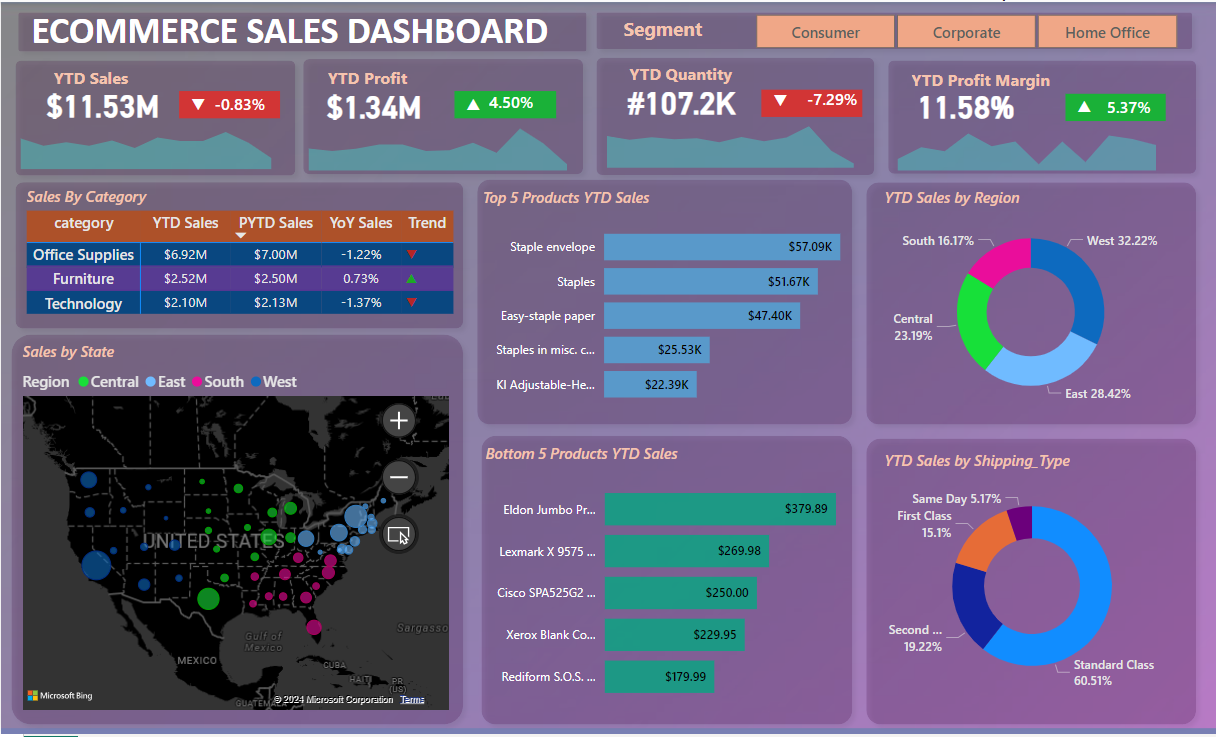

Layout of this report page (visuals, bound fields, positions):
{"tool":"powerbi","page":{"name":"Page 1","canvas":[1203,725],"ordinal":0},"visuals":[{"type":"shape","box":[7.8,1.7,580.8,56.6],"z":0},{"type":"textbox","box":[7.8,0.4,547.1,57.9],"z":1000},{"type":"shape","box":[5.8,48.9,295.1,132.1],"z":2000},{"type":"card","fields":{"Values":["Calendar.YTD Sales"]},"box":[24.7,71.8,152.3,57.9],"z":3000},{"type":"shape","box":[177,88,99.7,27],"z":4000},{"type":"areaChart","fields":{"Category":["Calendar.Month"],"Y":["Sum(ecommerce_data.sales_per_order)"]},"box":[5.8,108.2,276.2,62],"z":5000},{"type":"card","fields":{"Values":["ecommerce_data.YoY Sales"]},"box":[206.6,88,60.6,27],"z":6000},{"type":"card","fields":{"Values":["ecommerce_data.Sales Icon"]},"box":[177,88,37.7,29.6],"z":7000},{"type":"textbox","box":[24.7,58.3,129.4,39.1],"z":8000},{"type":"shape","box":[290.5,47.9,295.1,132.1],"z":9000},{"type":"card","fields":{"Values":["ecommerce_data.YTD Profit"]},"box":[293.8,72.8,152.3,57.9],"z":10000},{"type":"areaChart","fields":{"Category":["Calendar.Month"],"Y":["Sum(ecommerce_data.profit_per_order)"]},"box":[290.5,109.9,284.3,62],"z":11000},{"type":"shape","box":[580.7,46.1,293.1,134.3],"z":12000},{"type":"textbox","box":[319.4,57.9,129.4,39.1],"z":13000},{"type":"shape","box":[752.5,87.1,99.7,27],"z":14000},{"type":"card","fields":{"Values":["ecommerce_data.YoY Quantity"]},"box":[788.4,84.2,69.8,27.4],"z":15000},{"type":"card","fields":{"Values":["ecommerce_data.YTD Quancatinate Qty"]},"box":[603.4,70.8,140.1,55.2],"z":16000},{"type":"areaChart","fields":{"Category":["Calendar.Month"],"Y":["Sum(ecommerce_data.order_quantity)"]},"box":[585.9,107.2,272.2,62],"z":17000},{"type":"card","fields":{"Values":["ecommerce_data.Quantity Icon"]},"box":[753.6,84.2,37.7,29.6],"z":18000},{"type":"textbox","box":[603.4,54.6,138.8,39.1],"z":19000},{"type":"shape","box":[448.6,87.7,101.1,27],"z":20000},{"type":"card","fields":{"Values":["ecommerce_data.YoY Profit"]},"box":[475.6,86.3,60.6,26],"z":21000},{"type":"card","fields":{"Values":["ecommerce_data.Profit Icon"]},"box":[448.6,87.7,37,29.6],"z":22000},{"type":"shape","box":[869.8,48.8,322.9,130.3],"z":23000},{"type":"card","fields":{"Values":["ecommerce_data.YTD Profit Margin"]},"box":[878.7,73.7,152.3,57.9],"z":24000},{"type":"areaChart","fields":{"Category":["Calendar.Month"],"Y":["ecommerce_data.Profit Margin"]},"box":[874.1,109.5,284.3,62],"z":25000},{"type":"textbox","box":[896.2,60.6,173.8,35],"z":26000},{"type":"shape","box":[1053.9,90.3,99,27],"z":27000},{"type":"card","fields":{"Values":["ecommerce_data.YoY Profit Margin"]},"box":[1086.2,90.3,60,26],"z":28000},{"type":"card","fields":{"Values":["ecommerce_data.Profit Margin Icon"]},"box":[1053.9,88.9,37,29.6],"z":29000},{"type":"shape","box":[5.4,169.6,461.3,162.8],"z":30000},{"type":"pivotTable","title":"Sales By Category","fields":{"Rows":["ecommerce_data.category_name"],"Values":["Calendar.YTD Sales","ecommerce_data.PYTD Sales","ecommerce_data.YoY Sales","ecommerce_data.Sales Icon"]},"box":[20.5,181.9,446,138.2],"z":31000},{"type":"shape","box":[1.4,320.2,465.4,404.4],"z":32000},{"type":"map","title":"Sales by State","fields":{"Y":["us_state_long_lat_codes.latitude"],"X":["us_state_long_lat_codes.longitude"],"Size":["Calendar.YTD Sales"],"Series":["ecommerce_data.customer_region"]},"box":[16.3,335.2,432.8,371.8],"z":33000},{"type":"shape","box":[462.7,166.9,389.4,260.5],"z":34000},{"type":"shape","box":[466.8,420.6,385.4,303.9],"z":35000},{"type":"barChart","title":"Top 5 Products YTD Sales","fields":{"Category":["ecommerce_data.product_name"],"Y":["Calendar.YTD Sales"]},"box":[472.3,182.9,375.9,228],"z":36000},{"type":"barChart","title":"Bottom 5 Products YTD Sales","fields":{"Category":["ecommerce_data.product_name"],"Y":["Calendar.YTD Sales"]},"box":[474.9,436.9,369.1,270],"z":37000},{"type":"shape","box":[848.1,169.6,344.6,257.8],"z":38000},{"type":"shape","box":[848.1,423.3,344.6,301.2],"z":39000},{"type":"donutChart","title":"YTD Sales by Region","fields":{"Category":["ecommerce_data.customer_region"],"Y":["Calendar.YTD Sales"]},"box":[869.8,183.2,299.9,228],"z":40000},{"type":"donutChart","title":"YTD Sales by Shipping_Type","fields":{"Category":["ecommerce_data.shipping_type"],"Y":["Calendar.YTD Sales"]},"box":[869.8,443.7,302.6,249.7],"z":41000},{"type":"shape","box":[580.7,1.4,607.9,54.3],"z":41500},{"type":"slicer","fields":{"Values":["ecommerce_data.customer_segment"]},"box":[721.9,5.4,466.8,47.5],"z":42000},{"type":"textbox","box":[588.9,8.1,133,39.3],"z":42001}]}

Visuals, with their boxes in screenshot pixels (x1, y1, x2, y2), scaled from the page's 1203x725 canvas onto the 1216x737 screenshot:
shape: region(8, 2, 595, 59)
textbox: region(8, 0, 561, 59)
shape: region(6, 50, 304, 184)
card - Calendar.YTD Sales: region(25, 73, 179, 132)
shape: region(179, 89, 280, 117)
areaChart - Calendar.Month x Sum(ecommerce_data.sales_per_order): region(6, 110, 285, 173)
card - ecommerce_data.YoY Sales: region(209, 89, 270, 117)
card - ecommerce_data.Sales Icon: region(179, 89, 217, 120)
textbox: region(25, 59, 156, 99)
shape: region(294, 49, 592, 183)
card - ecommerce_data.YTD Profit: region(297, 74, 451, 133)
areaChart - Calendar.Month x Sum(ecommerce_data.profit_per_order): region(294, 112, 581, 175)
shape: region(587, 47, 883, 183)
textbox: region(323, 59, 454, 99)
shape: region(761, 89, 861, 116)
card - ecommerce_data.YoY Quantity: region(797, 86, 867, 113)
card - ecommerce_data.YTD Quancatinate Qty: region(610, 72, 752, 128)
areaChart - Calendar.Month x Sum(ecommerce_data.order_quantity): region(592, 109, 867, 172)
card - ecommerce_data.Quantity Icon: region(762, 86, 800, 116)
textbox: region(610, 56, 750, 95)
shape: region(453, 89, 556, 117)
card - ecommerce_data.YoY Profit: region(481, 88, 542, 114)
card - ecommerce_data.Profit Icon: region(453, 89, 491, 119)
shape: region(879, 50, 1206, 182)
card - ecommerce_data.YTD Profit Margin: region(888, 75, 1042, 134)
areaChart - Calendar.Month x ecommerce_data.Profit Margin: region(884, 111, 1171, 174)
textbox: region(906, 62, 1082, 97)
shape: region(1065, 92, 1165, 119)
card - ecommerce_data.YoY Profit Margin: region(1098, 92, 1159, 118)
card - ecommerce_data.Profit Margin Icon: region(1065, 90, 1103, 120)
shape: region(5, 172, 472, 338)
"Sales By Category" pivotTable: region(21, 185, 472, 325)
shape: region(1, 325, 472, 736)
"Sales by State" map: region(16, 341, 454, 719)
shape: region(468, 170, 861, 434)
shape: region(472, 428, 861, 736)
"Top 5 Products YTD Sales" barChart: region(477, 186, 857, 418)
"Bottom 5 Products YTD Sales" barChart: region(480, 444, 853, 719)
shape: region(857, 172, 1206, 434)
shape: region(857, 430, 1206, 736)
"YTD Sales by Region" donutChart: region(879, 186, 1182, 418)
"YTD Sales by Shipping_Type" donutChart: region(879, 451, 1185, 705)
shape: region(587, 1, 1201, 57)
slicer - ecommerce_data.customer_segment: region(730, 5, 1202, 54)
textbox: region(595, 8, 730, 48)
